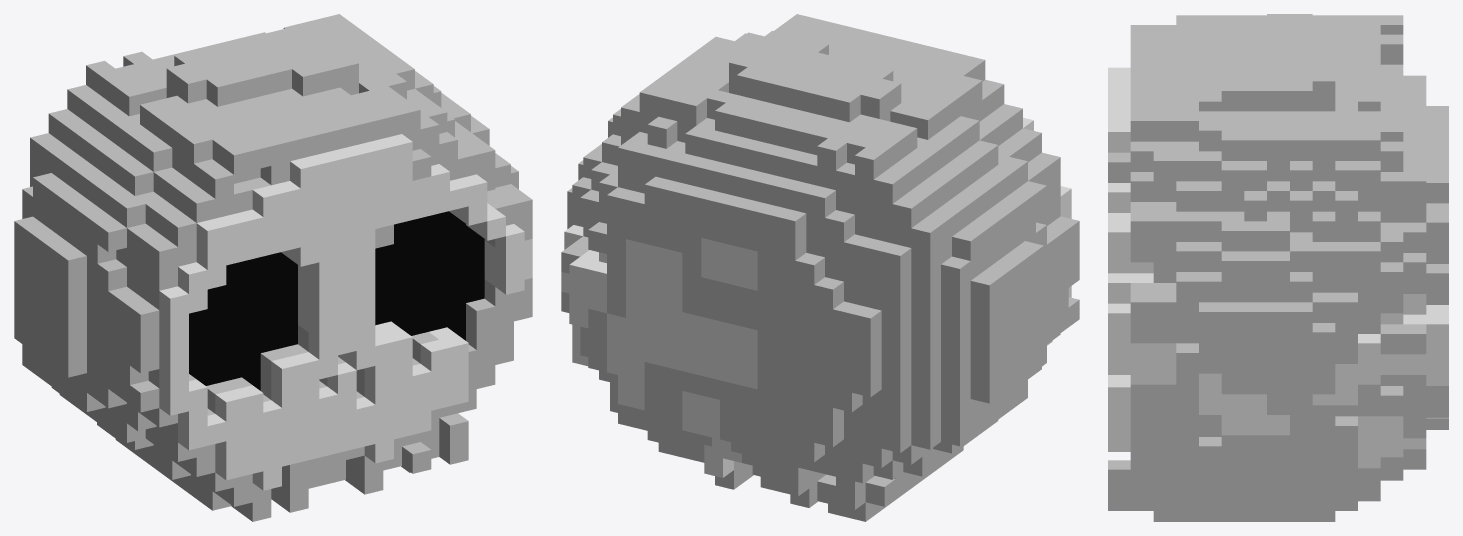
The model's file is skull2.obj.
3 renders of one model, left to right at view 1: azimuth 30°, elevation 25°; view 2: azimuth 150°, elevation 25°; view 3: azimuth 270°, elevation 25°, orthographic. The views are drawn at different scales.
Bounding box in the file's own units: 2.3 × 2 × 1.5.
1 material, 1 textured.
